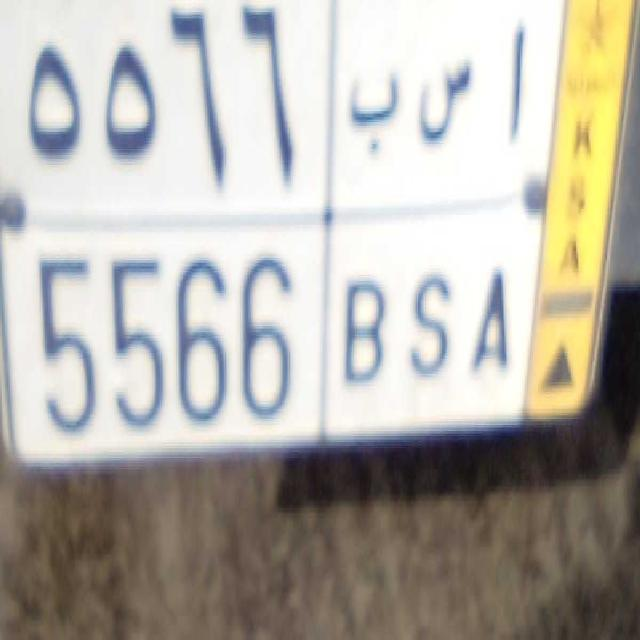license_plate: (9, 202, 521, 464)
